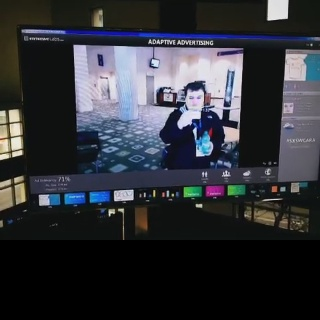without_mask: (184, 88, 204, 108)
